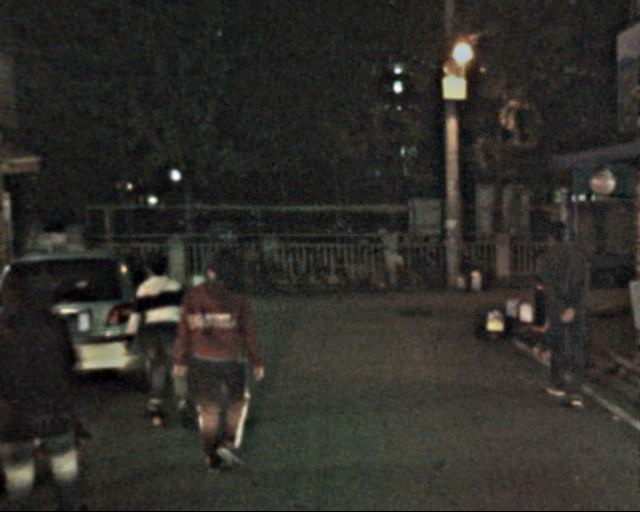person: (7, 252, 98, 512), (172, 243, 265, 482), (525, 208, 598, 417), (125, 245, 194, 436)
